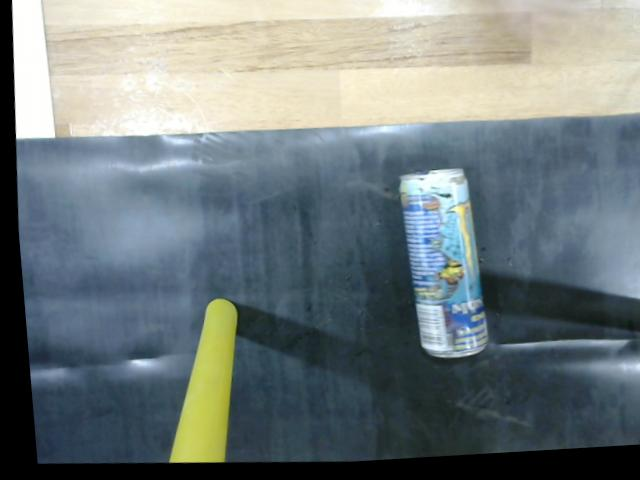can: (380, 161, 484, 376)
